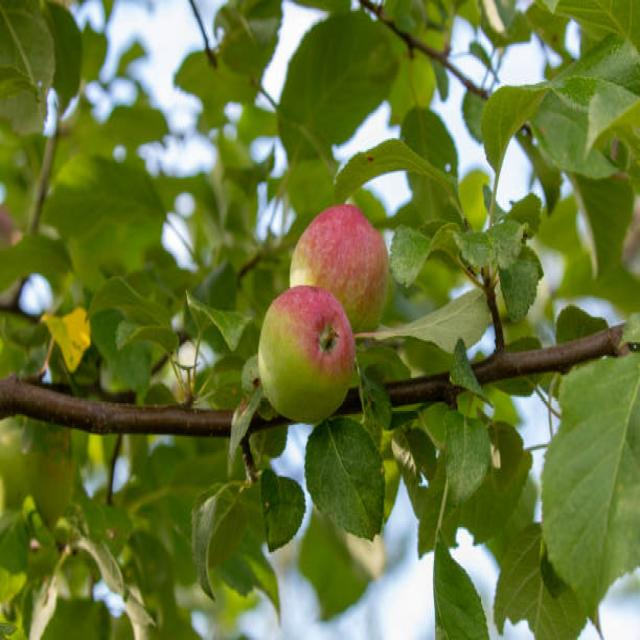Unripe: (258, 285, 358, 425)
